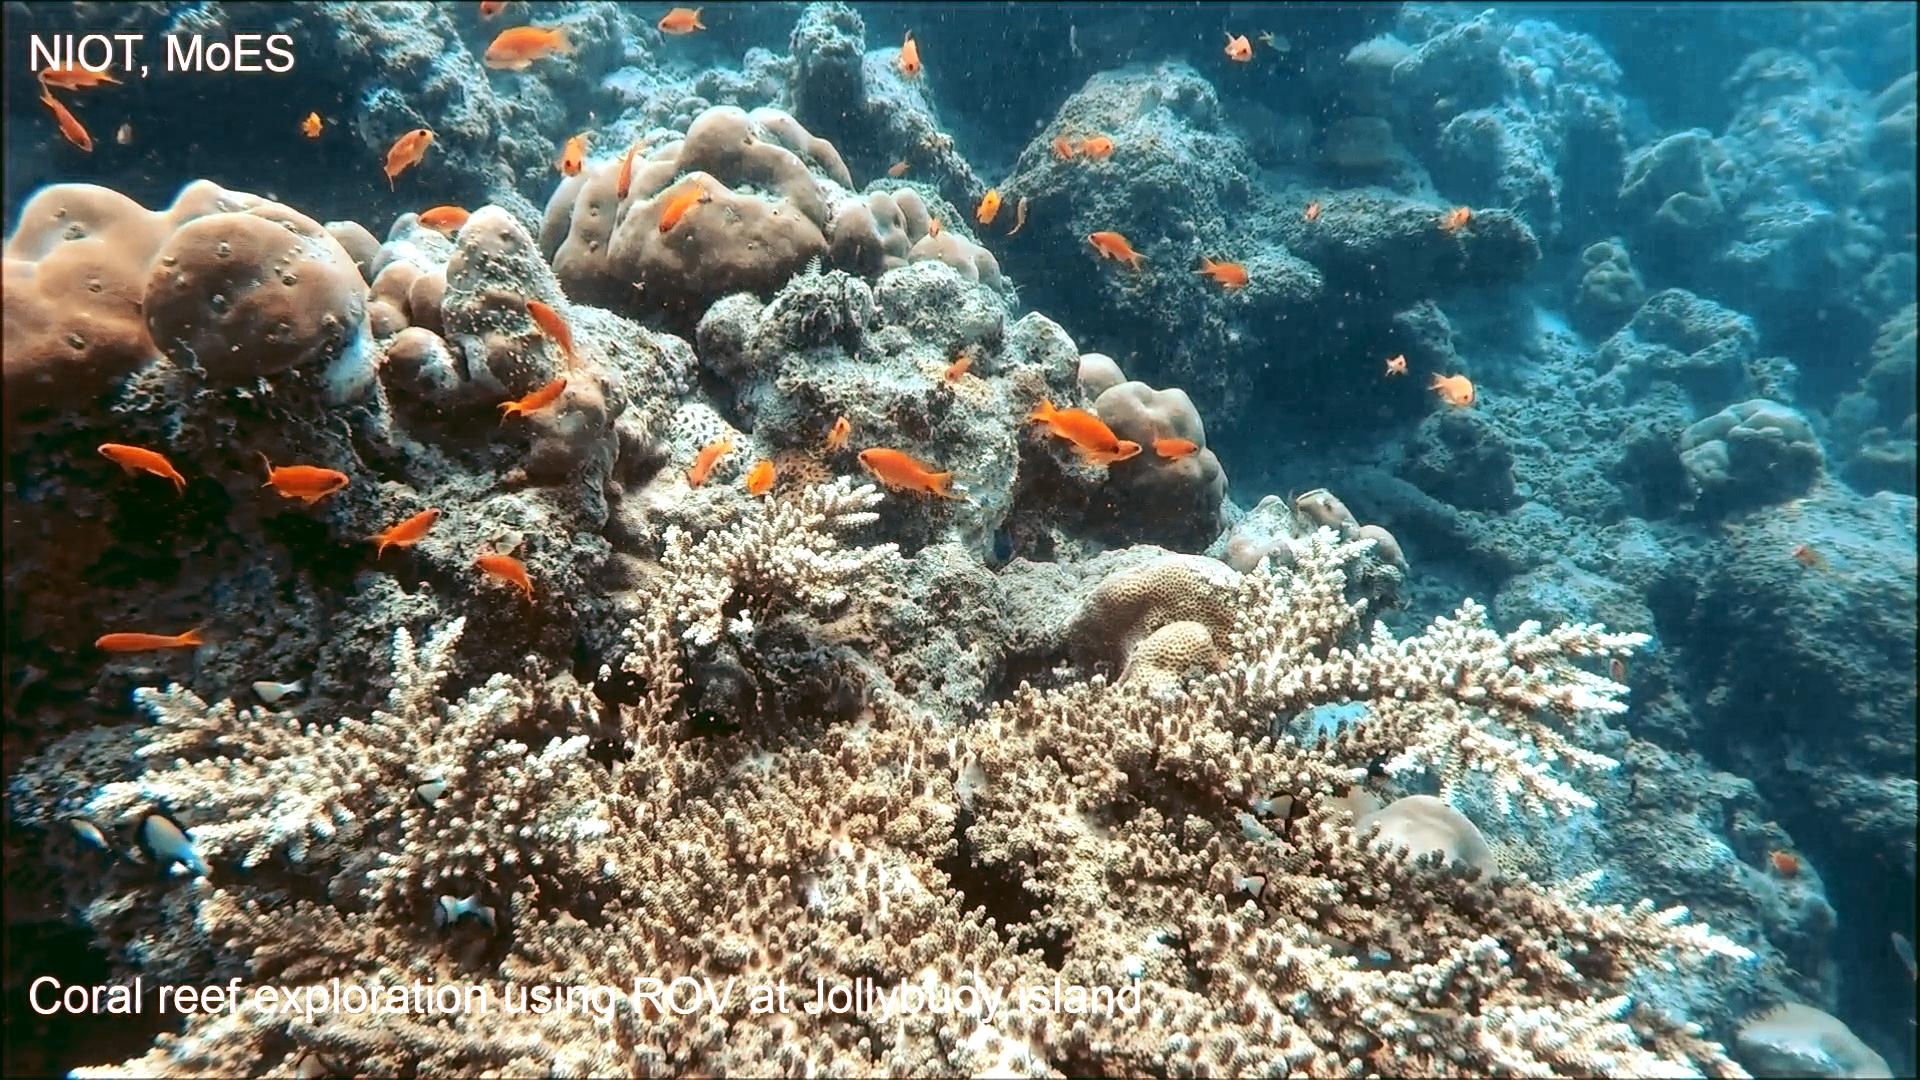Porites-Porites pukoensis: (0, 172, 379, 434), (532, 96, 914, 327)
